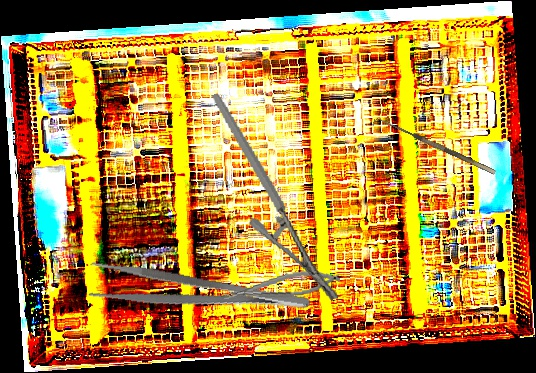Dressing Forceps: (85, 258, 312, 332)
Hook Surgical: (371, 114, 497, 182)
Needle Holder: (210, 78, 342, 315), (221, 266, 342, 306)
